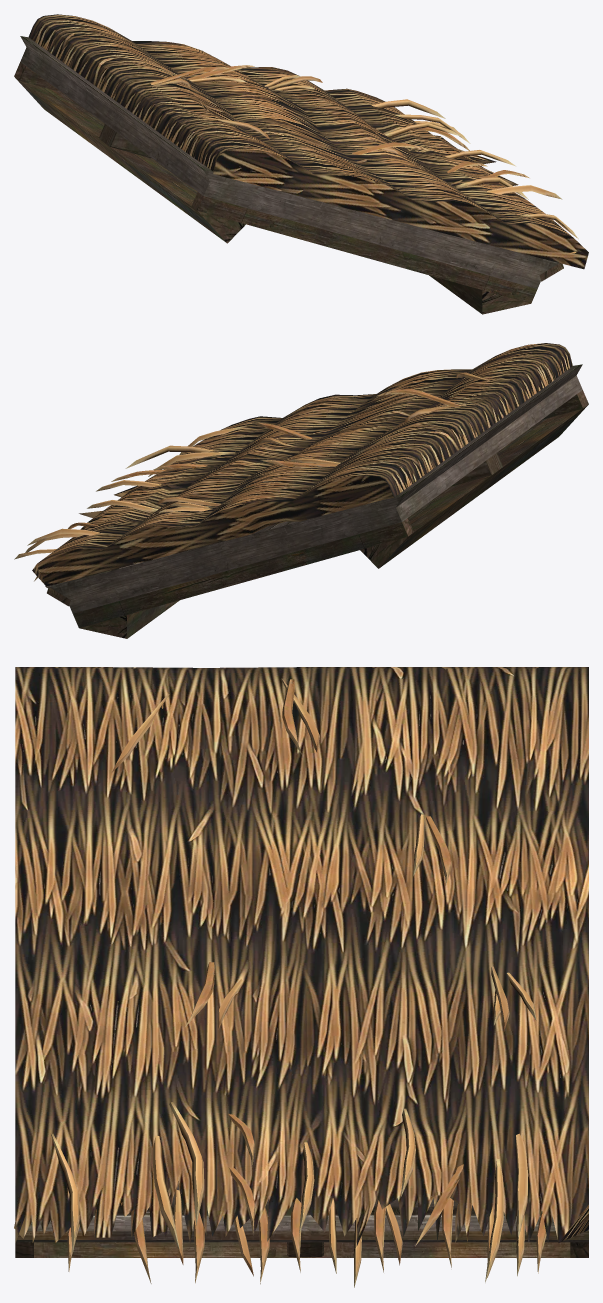
The picture shows the model from 3 angles, top to bottom: view 1: azimuth 30°, elevation 25°; view 2: azimuth 150°, elevation 25°; view 3: azimuth 270°, elevation 25°; orthographic projection. The views are drawn at different scales.
Parts seen in each view (by area): view 1: SM_BB_T1_Extended_Roof_Large_Shallow_LOD0; view 2: SM_BB_T1_Extended_Roof_Large_Shallow_LOD0; view 3: SM_BB_T1_Extended_Roof_Large_Shallow_LOD0.
Part boxes in pixels (box(x1,y1,x2,y2)): SM_BB_T1_Extended_Roof_Large_Shallow_LOD0: box(14, 14, 588, 314); SM_BB_T1_Extended_Roof_Large_Shallow_LOD0: box(14, 343, 588, 638); SM_BB_T1_Extended_Roof_Large_Shallow_LOD0: box(14, 667, 588, 1287).
Bounding box in the file's own units: 4 × 2.08 × 3.01.
Materials: 3 (3 with a texture image).
